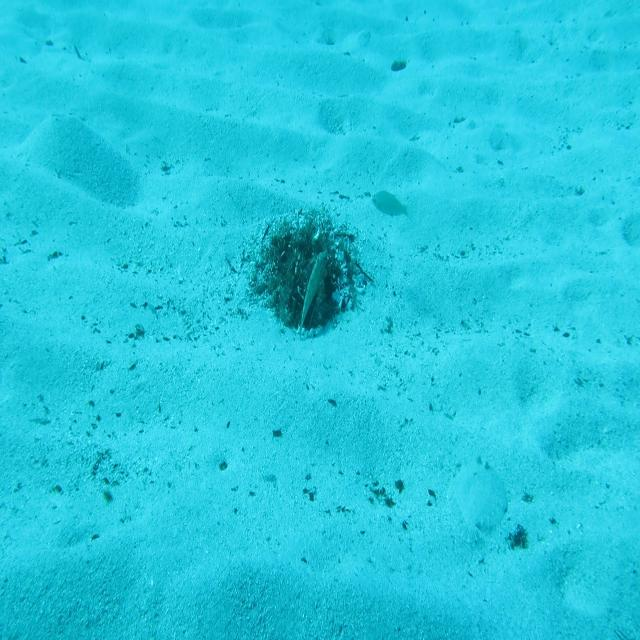LF: (294, 247, 330, 338)
female: (370, 188, 411, 227)
nest: (240, 206, 374, 348)
